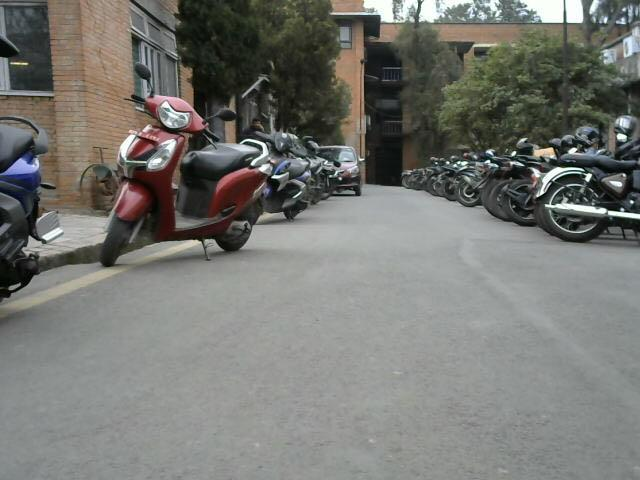Car: (314, 140, 368, 210)
Electrical Pole: (358, 52, 371, 193)
Motorcycle: (99, 69, 249, 286), (391, 123, 640, 236), (0, 37, 70, 311), (251, 118, 339, 228)
Road: (34, 194, 640, 480)
Tree: (396, 3, 603, 144), (180, 1, 354, 109)
